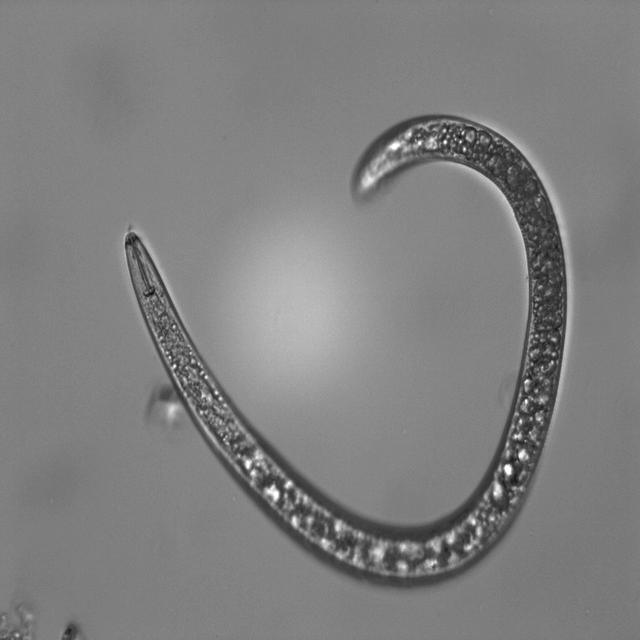Helicotylenchus: (151, 90, 574, 575)
